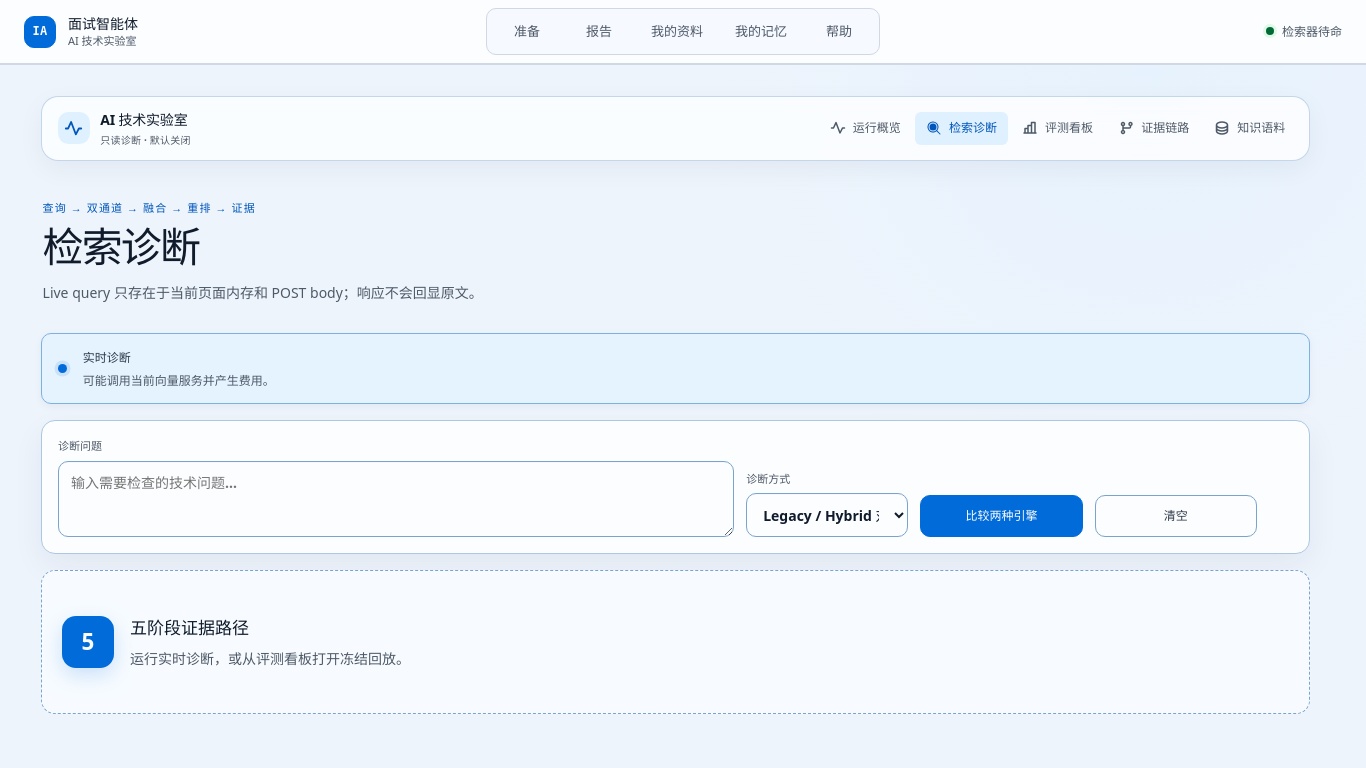
Test case: RAG console diagnostics › uses Fixed Weighted RRF by default without exposing weight inputs
Type "fixed demo" into the text box labelled "诊断问题" at (396, 499), box left=58, top=461, right=734, bottom=537
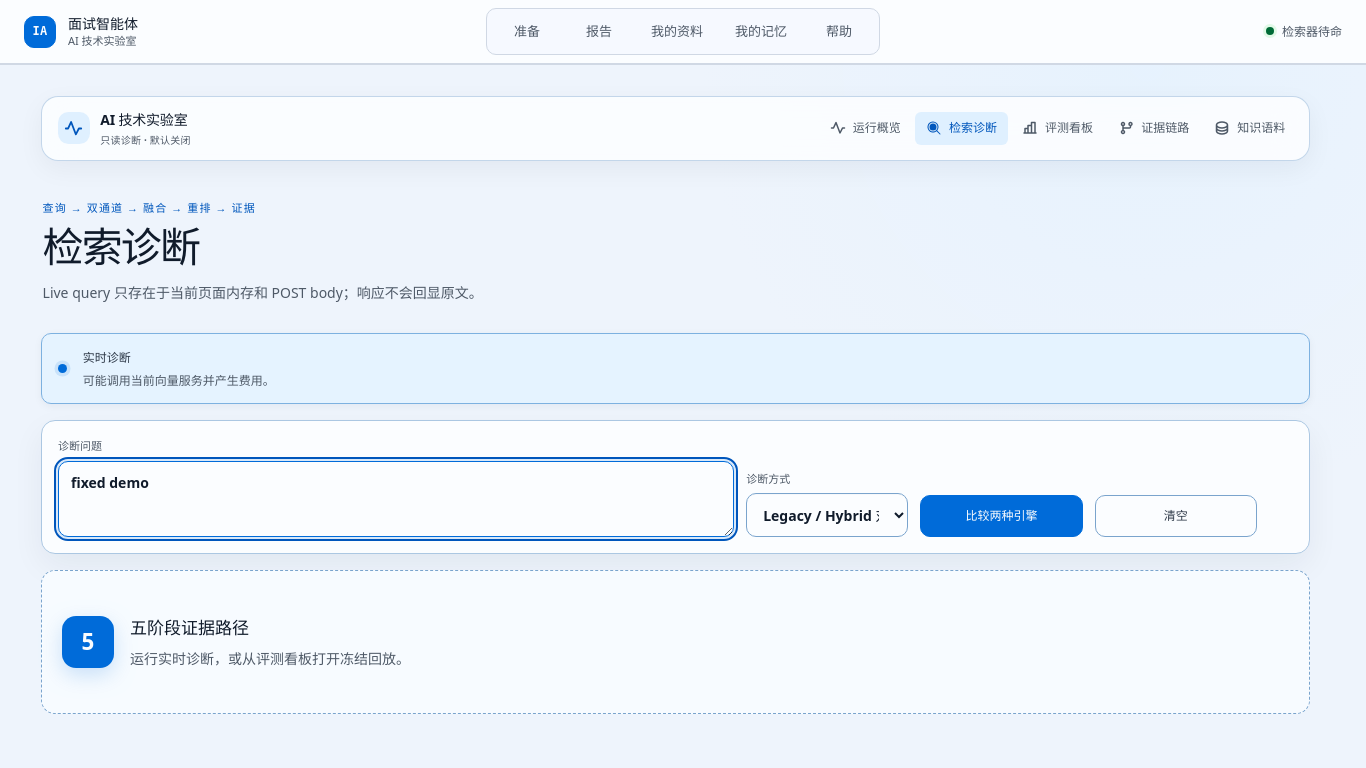
Select "单引擎诊断" in the dropdown labelled "诊断方式" at (827, 515), box left=746, top=493, right=908, bottom=537
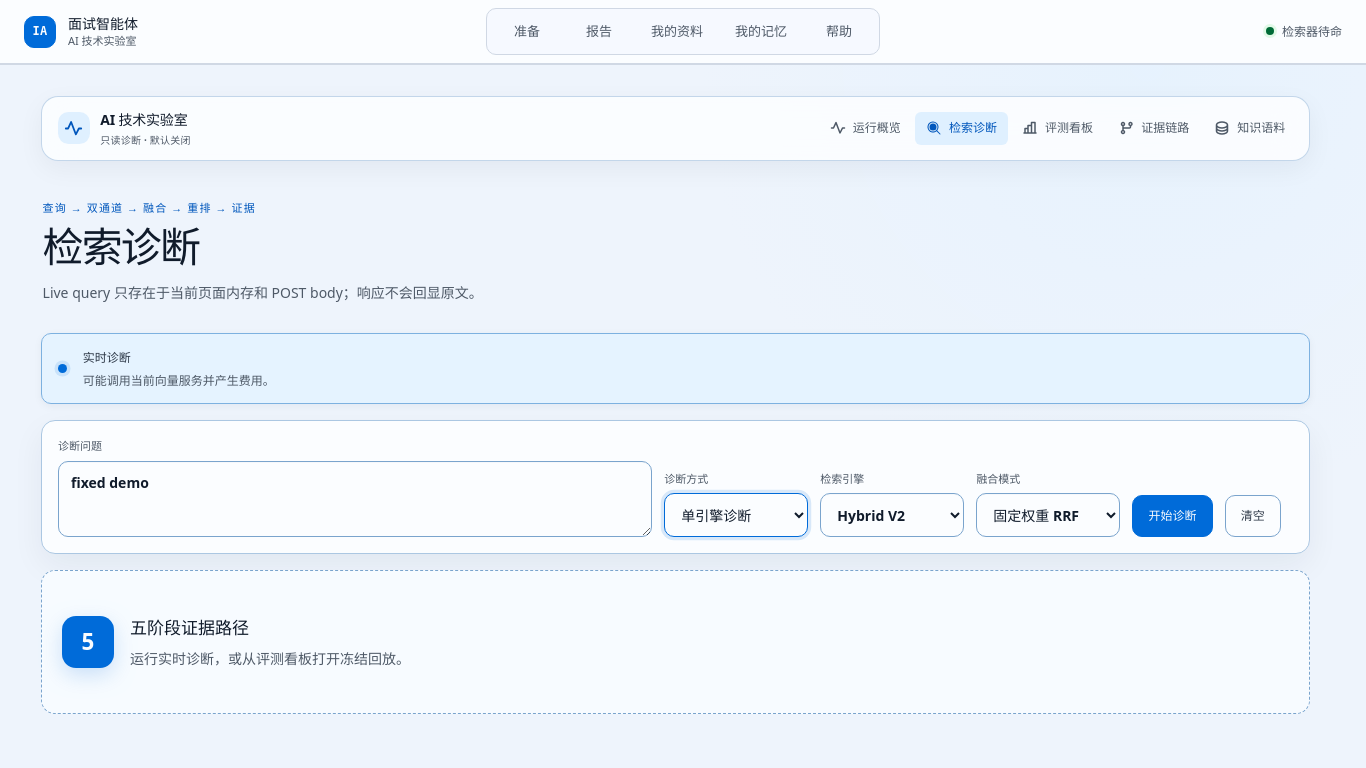
Check: the dropdown labelled "融合模式" shows "固定权重 RRF", box left=976, top=493, right=1120, bottom=537
Click the button "开始诊断" at (1172, 516), box left=1132, top=495, right=1213, bottom=537
(page scrolled)
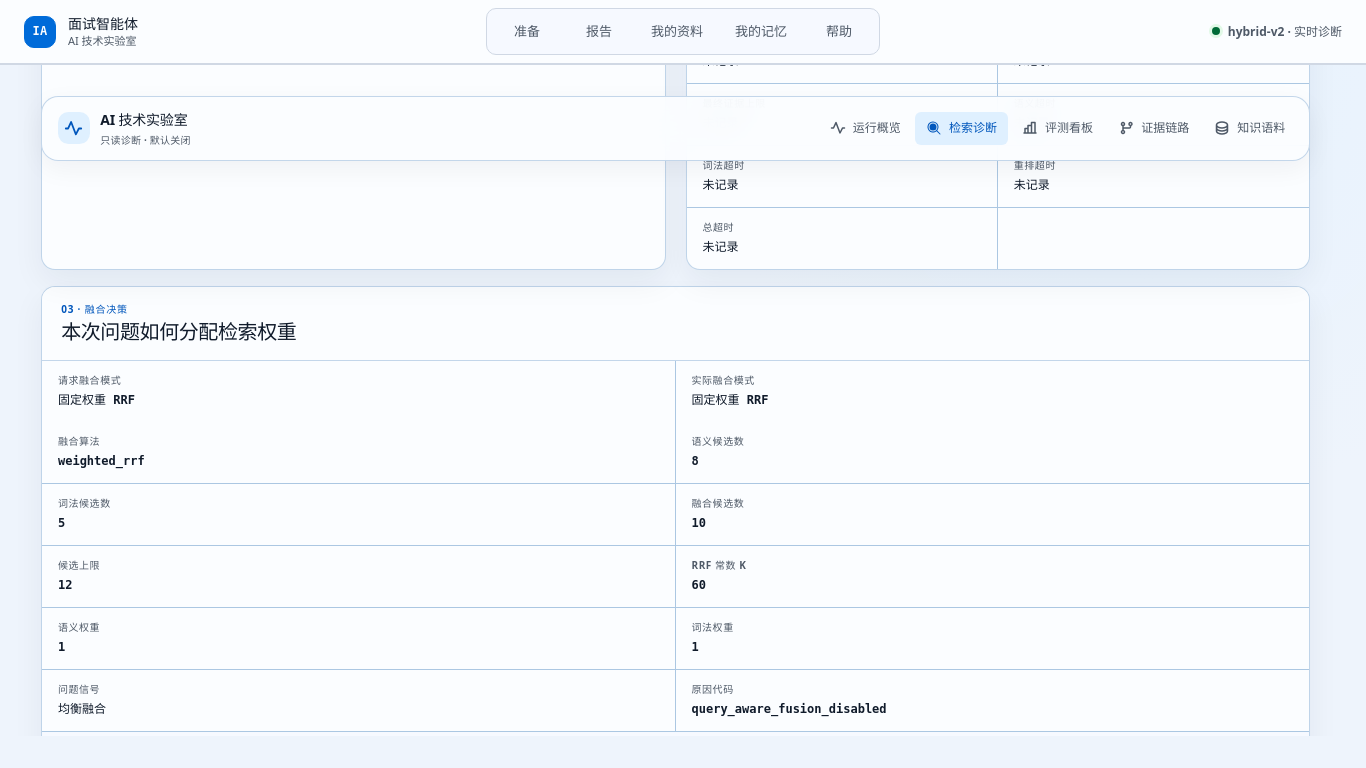
Check: the element showing "固定权重 RRF" below "实际融合模式" is shown, box left=692, top=393, right=768, bottom=407
